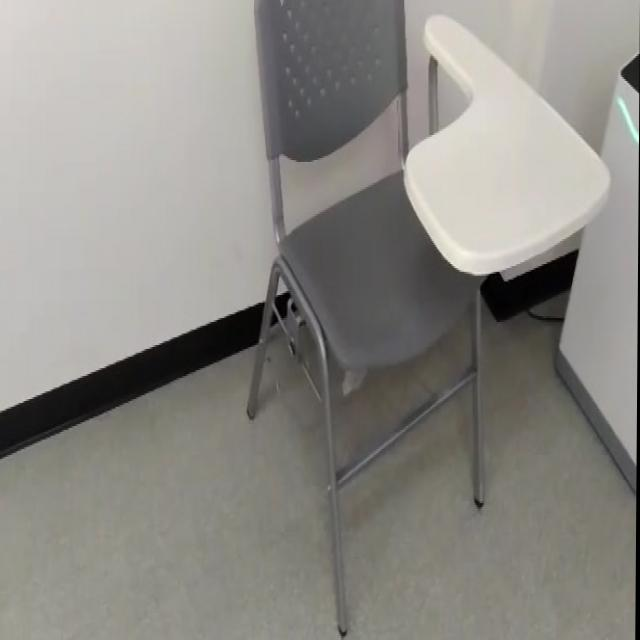chair: (224, 0, 617, 640)
